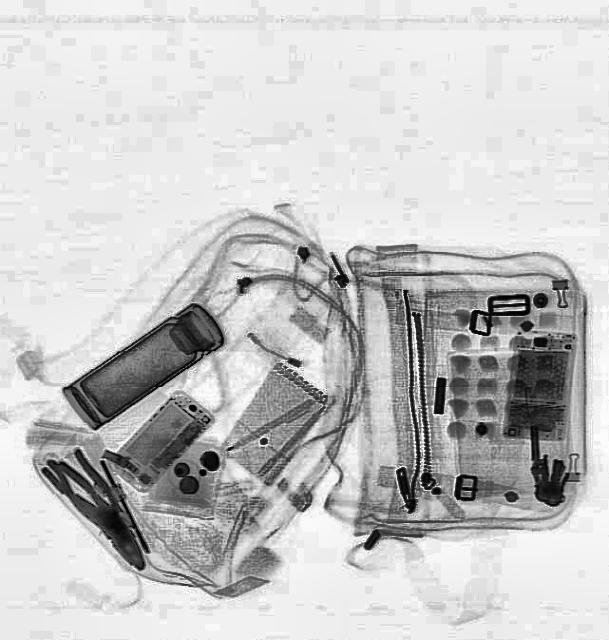Pliers: (39, 438, 161, 582)
